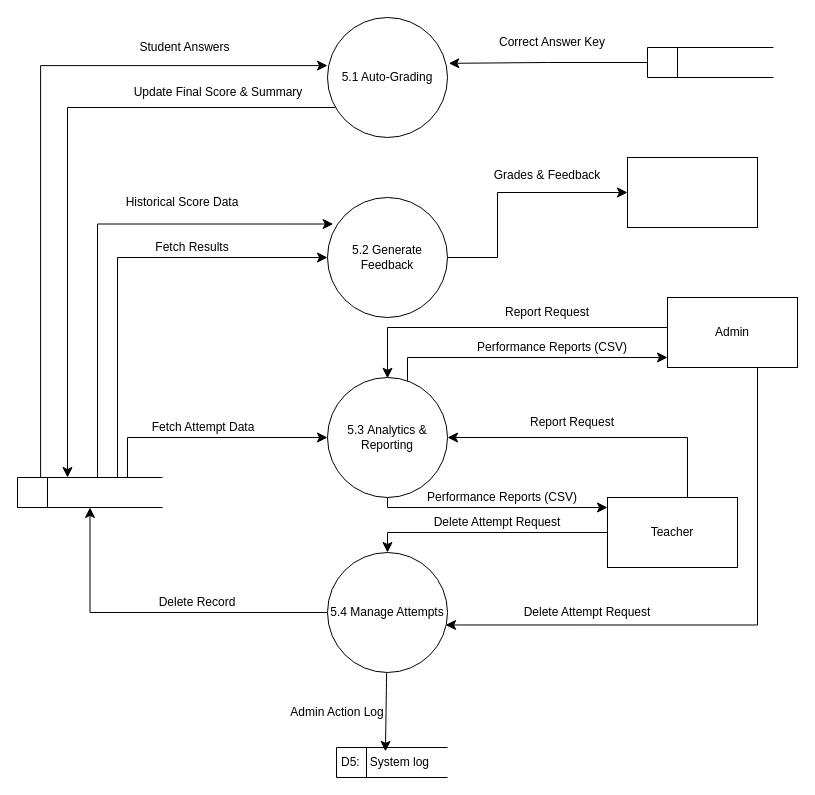
Image size: 815x795. Some labels were removed from this diagram. The box of each missing label's shape, as (x1, y1, x2, y2) in pixels:
D2: Question Bank: (646, 46, 774, 78)
D4: Attempts & Results: (16, 476, 162, 508)
Student: (626, 156, 758, 228)
